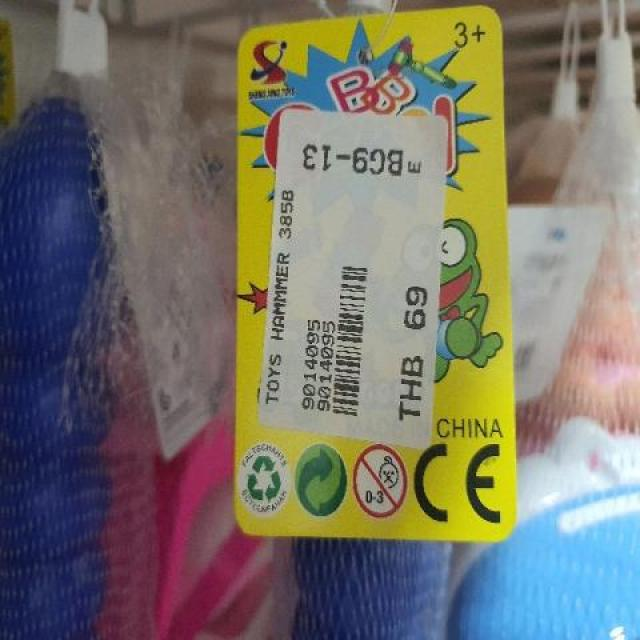Barcode: (317, 253, 378, 428)
